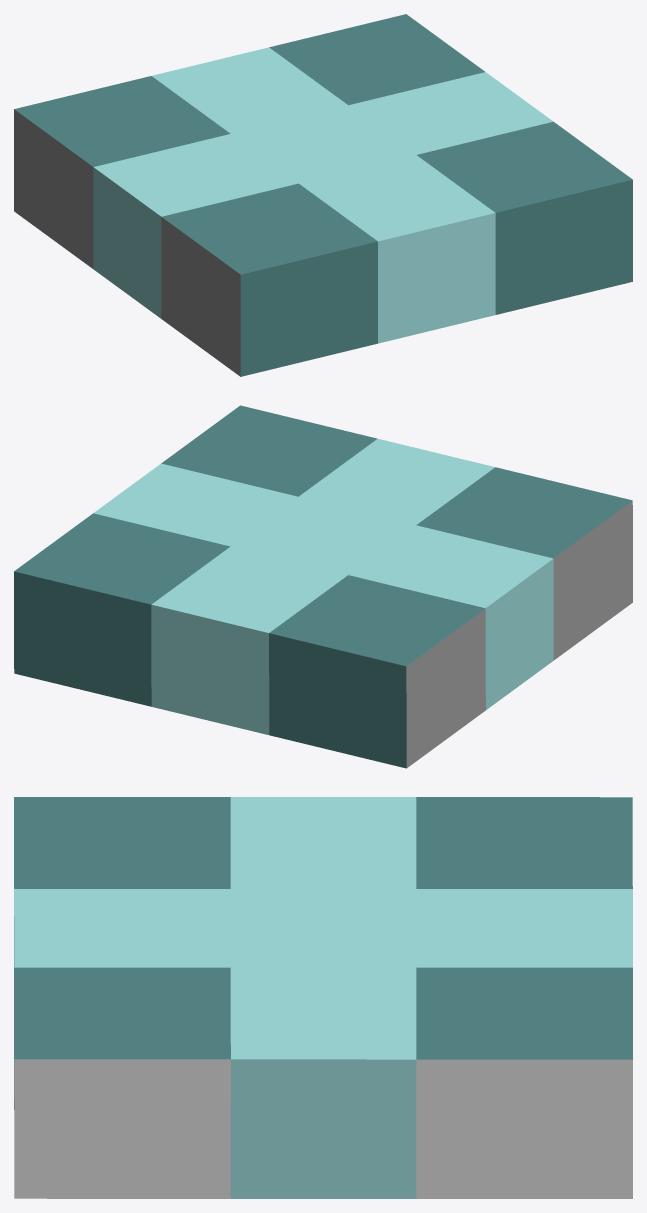
Rendered from sol_2_repar.fbx.
3 views of the same model, one above another, from view 1: azimuth 30°, elevation 25°; view 2: azimuth 150°, elevation 25°; view 3: azimuth 270°, elevation 25° (orthographic). The views are drawn at different scales.
Parts seen in each view (by area): view 1: pasted__pCube77; view 2: pasted__pCube77; view 3: pasted__pCube77.
Boxes of the visible parts, x1=… form: pasted__pCube77: x1=14, y1=14, x2=632, y2=376; pasted__pCube77: x1=14, y1=405, x2=632, y2=768; pasted__pCube77: x1=14, y1=797, x2=632, y2=1198.
Size of the model in its own units: 1 by 0.2507 by 1.
